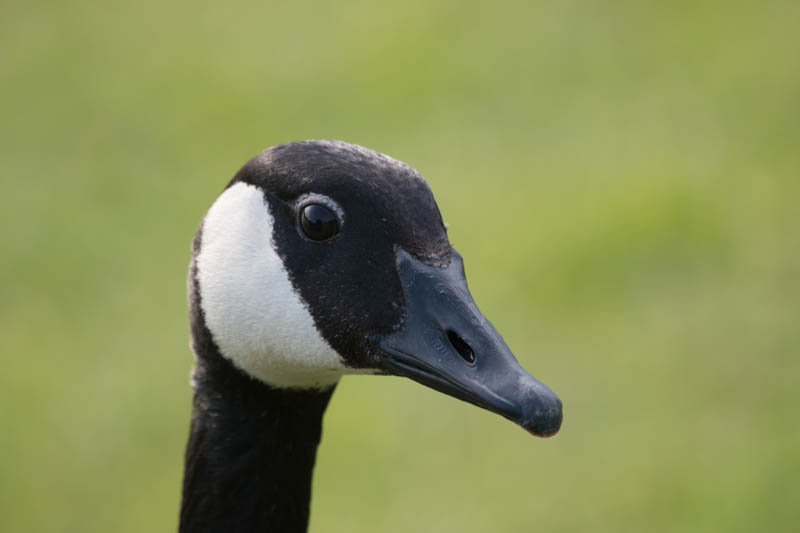goose-head: (185, 139, 564, 440)
